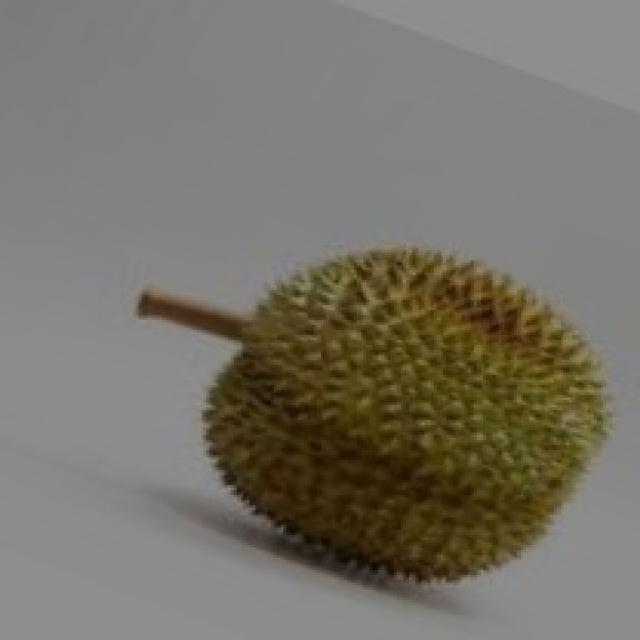fruit: (237, 223, 640, 625)
